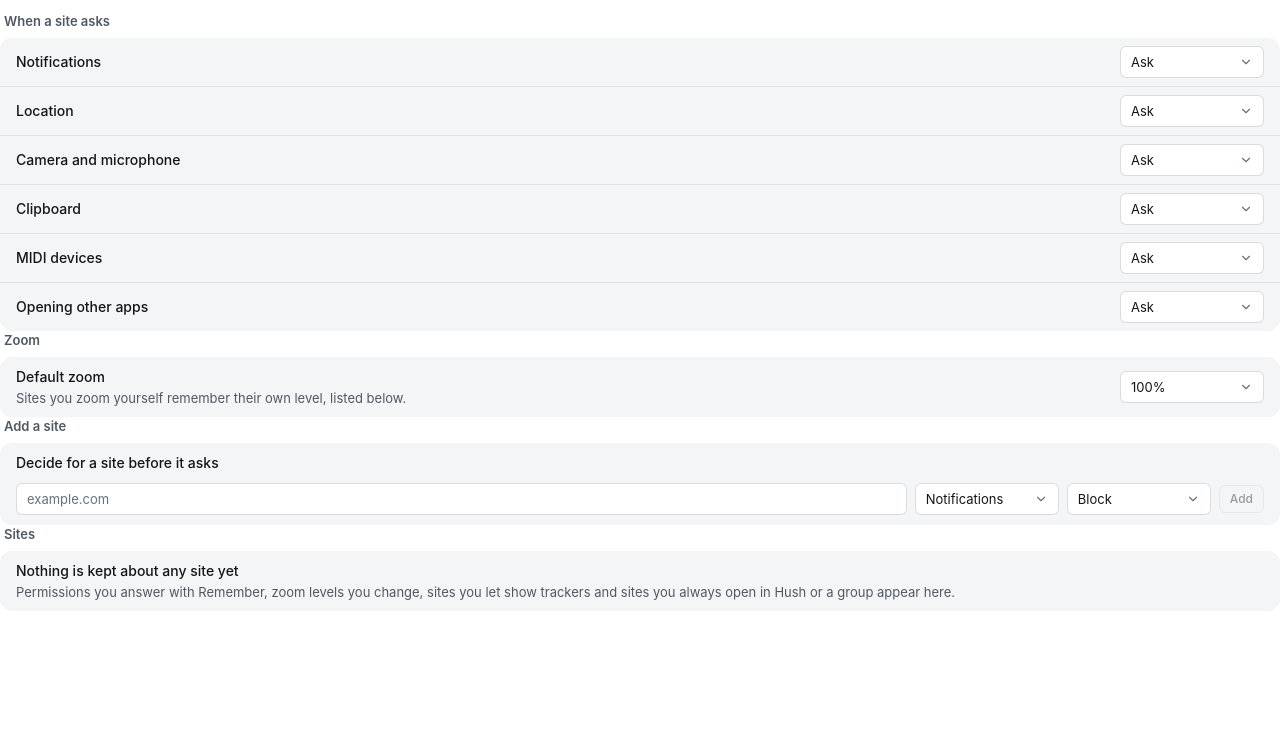
the site settings pane › says so when the address is not a site
Type "nonsense" into the field named "Site address" at (461, 499), box [16,483,907,515]
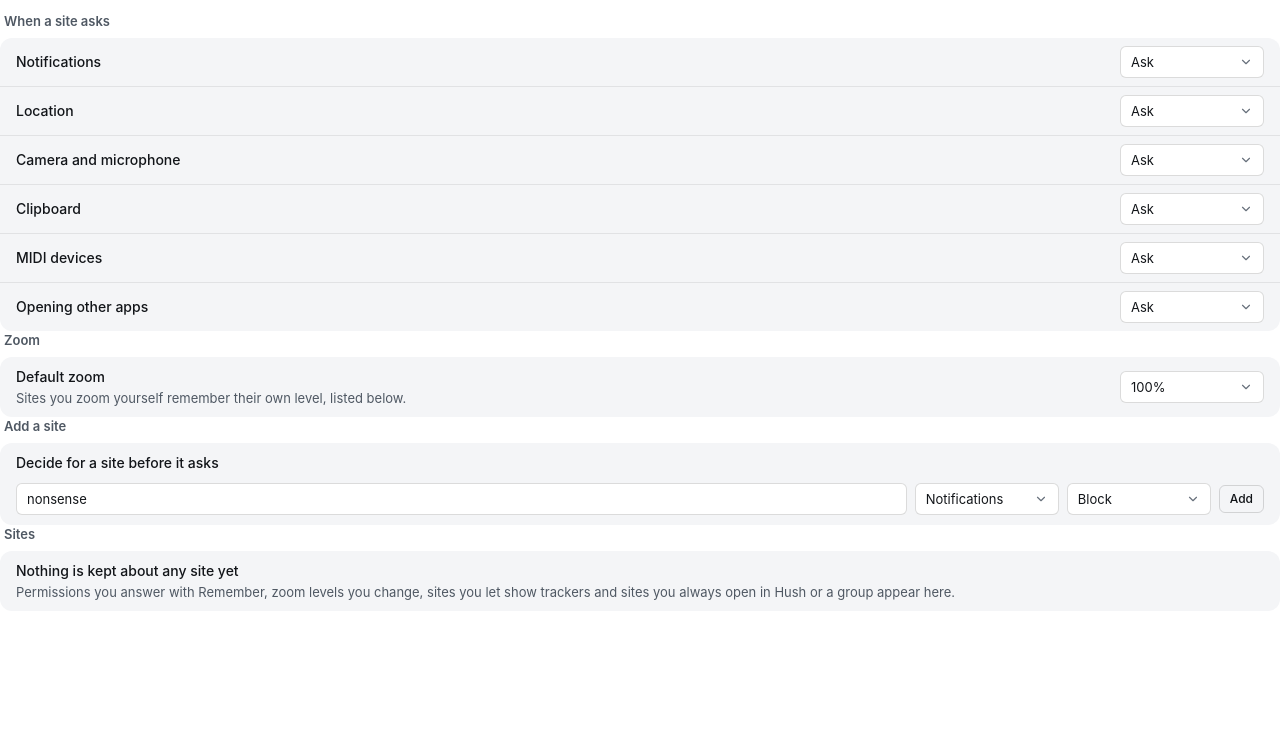
Click the button "Add" at (1241, 499), box [1219,485,1264,513]
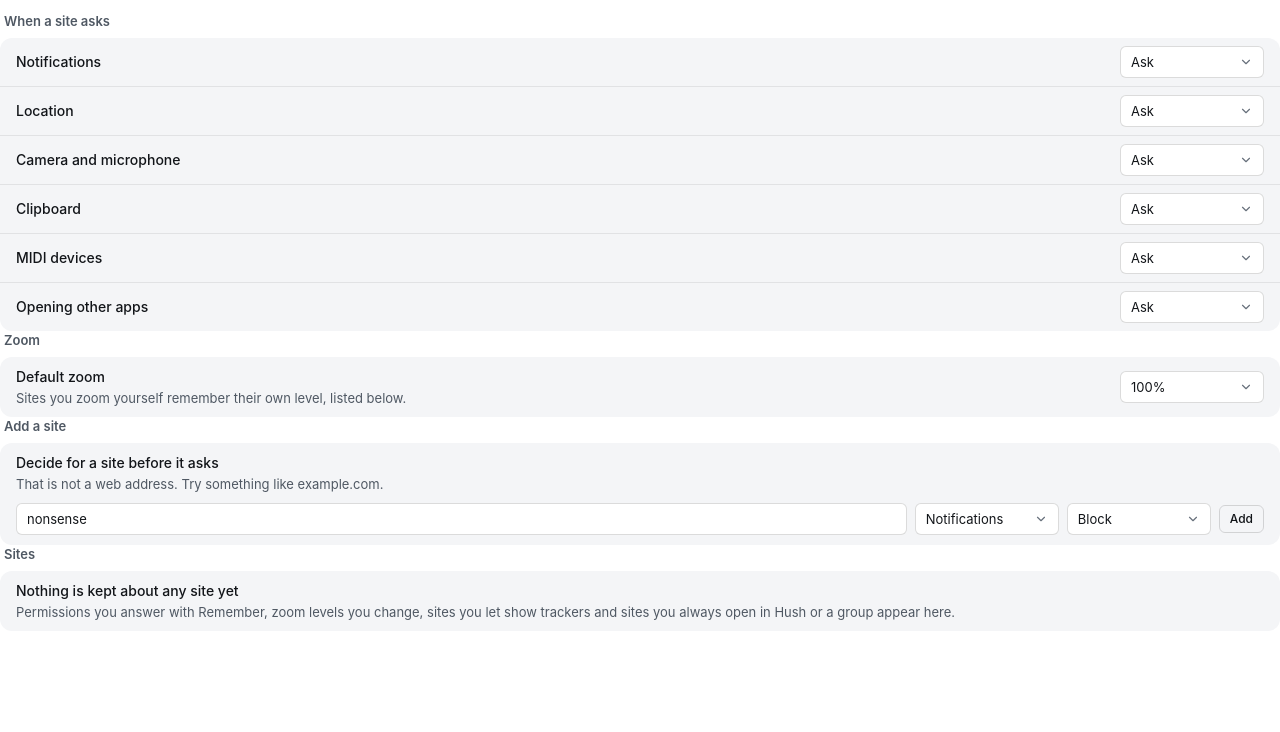
Check: the text "That is not a web address. Try something like example.com." is shown, box [16,476,384,492]
